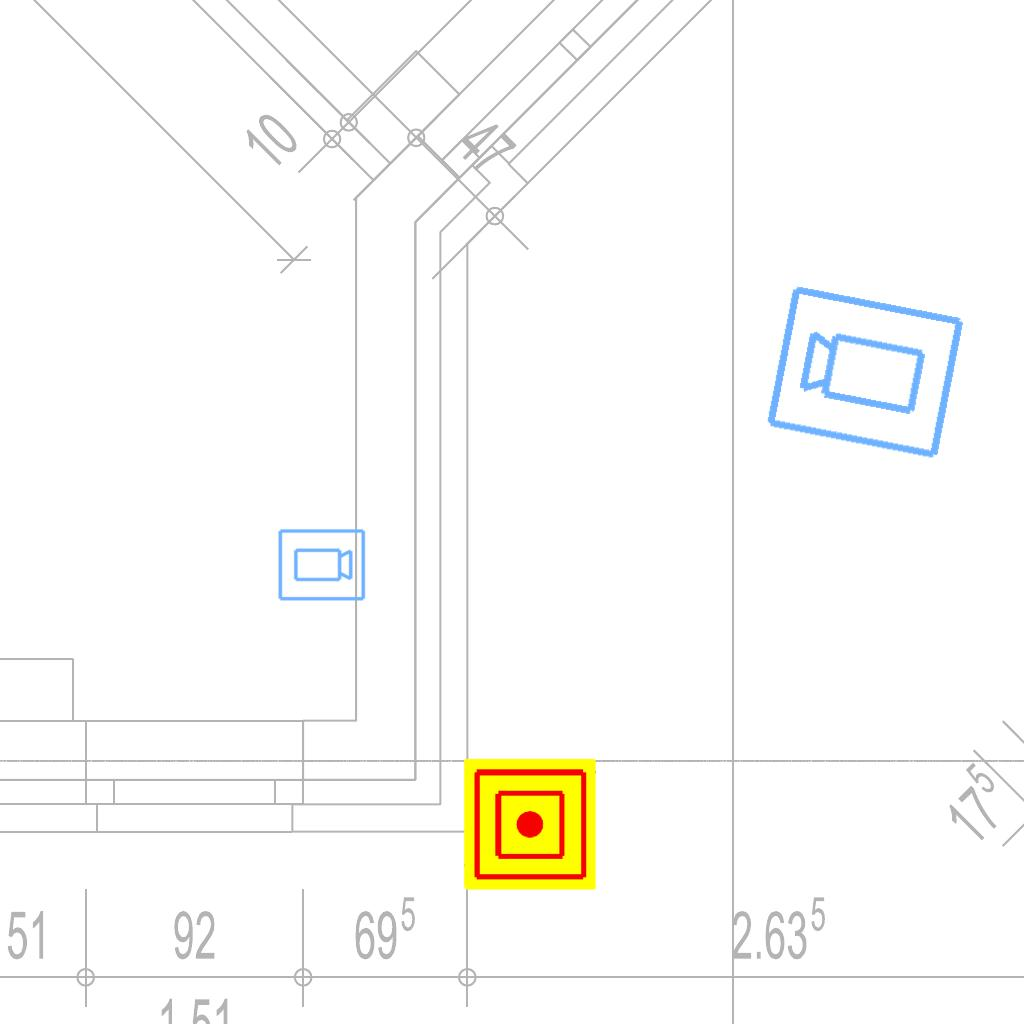KFO_Kamera_mit_Festobjektiv: (761, 278, 971, 464), (276, 527, 367, 604)
NAM-Nichtautomatischer_Melder: (464, 758, 596, 890)
